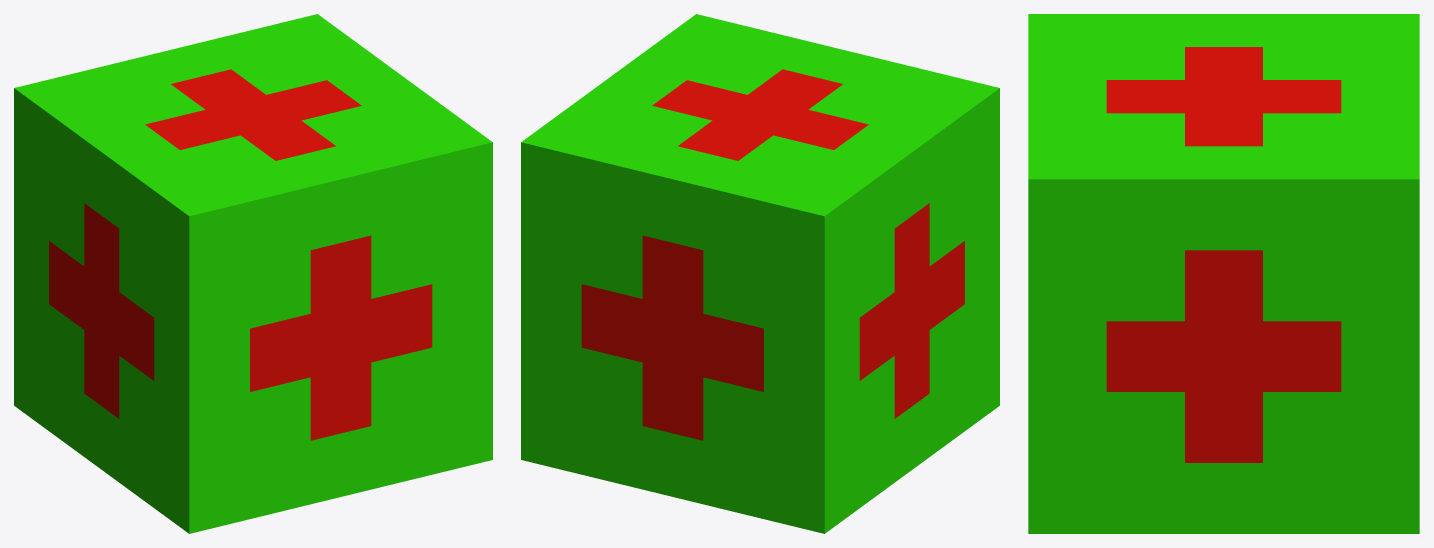
The model's file is heal.fbx.
3 renders of one model, left to right at view 1: azimuth 30°, elevation 25°; view 2: azimuth 150°, elevation 25°; view 3: azimuth 270°, elevation 25°, orthographic. The views are drawn at different scales.
Visible parts, largest first — view 1: Cube; view 2: Cube; view 3: Cube.
Part boxes in pixels (x1,y1,x2,y2): Cube: [14, 14, 492, 533]; Cube: [521, 14, 999, 533]; Cube: [1028, 14, 1419, 533].
Size of the model in its own units: 1000 by 1000 by 1000.
